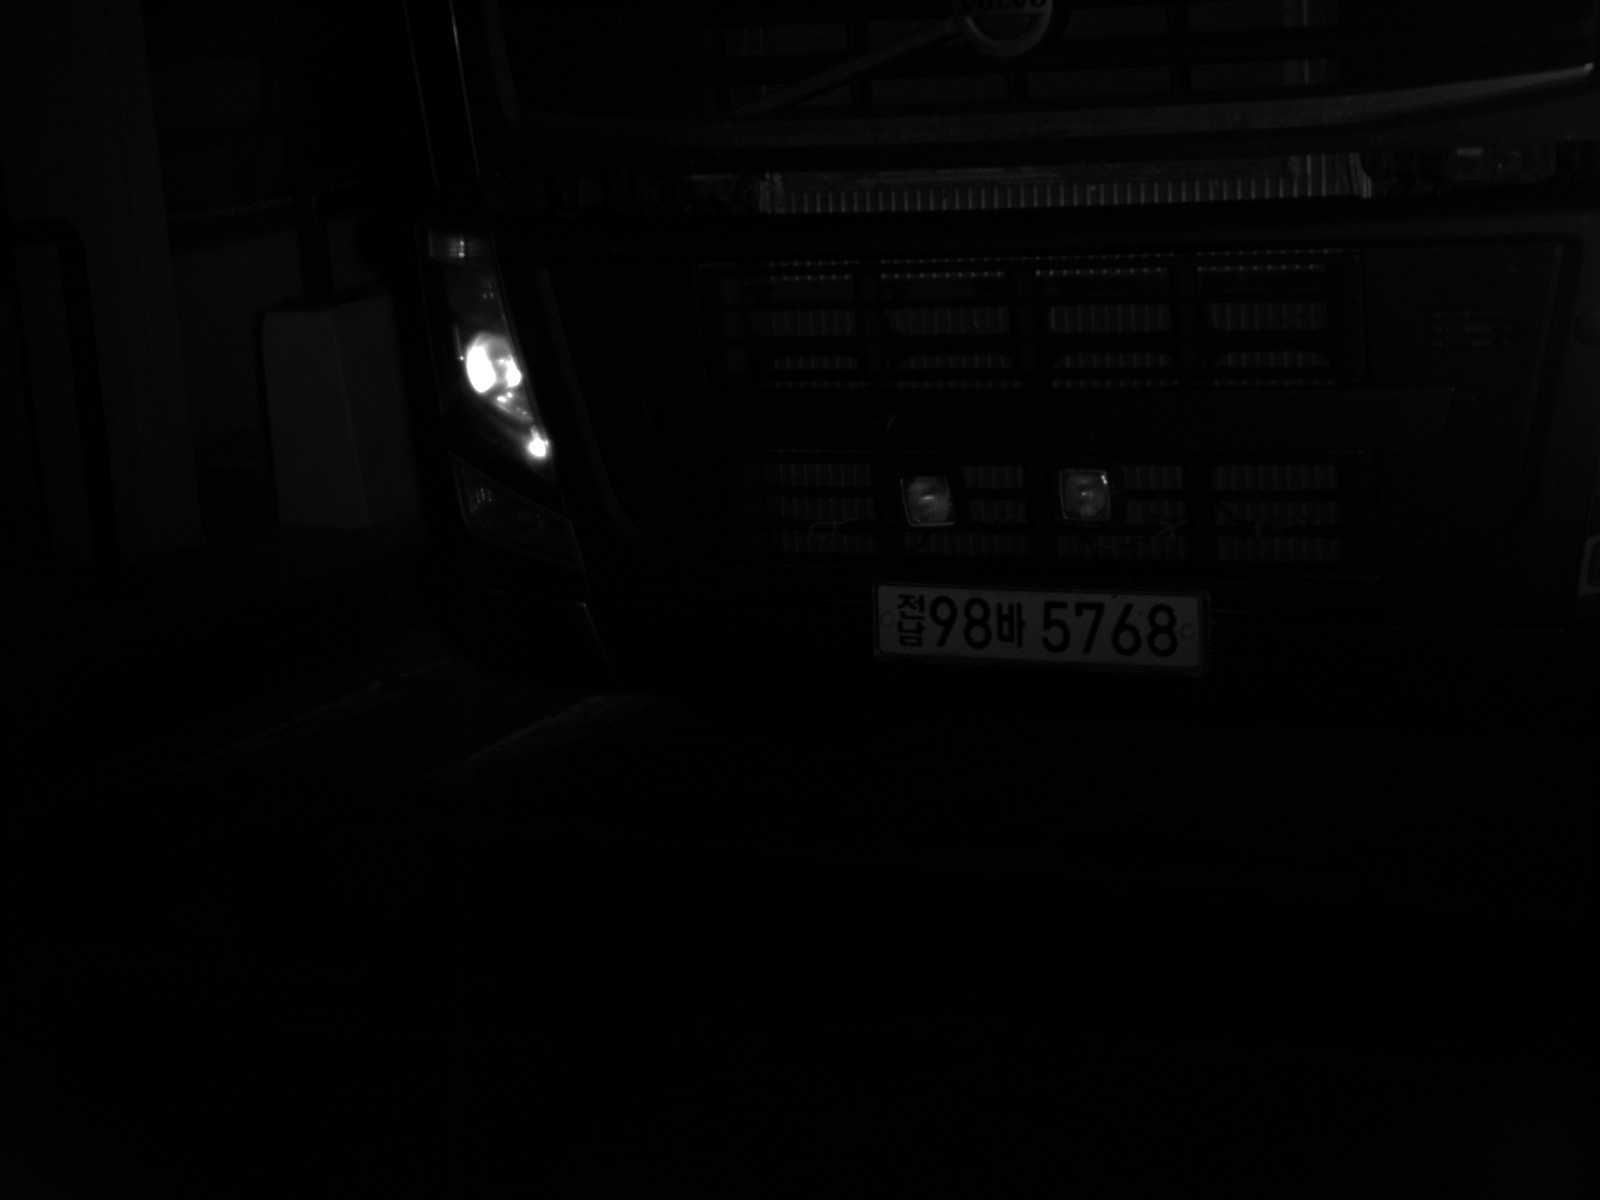car: (352, 3, 1599, 823)
plate: (867, 577, 1205, 673)
